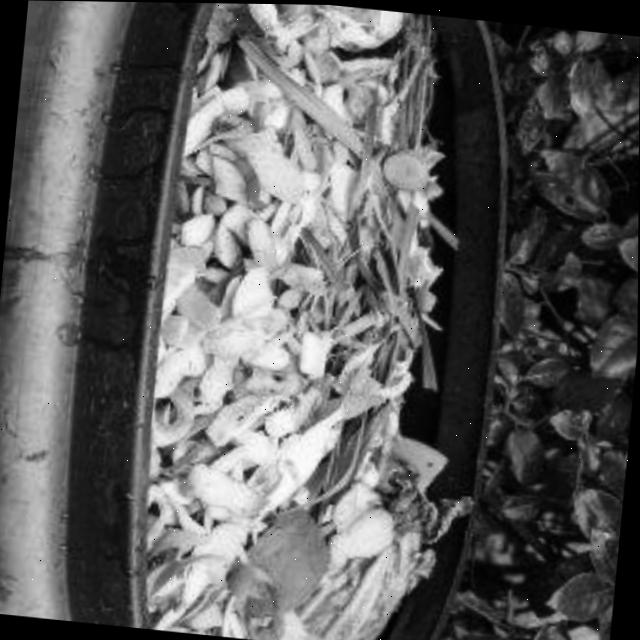Garbage: (147, 2, 471, 640)
